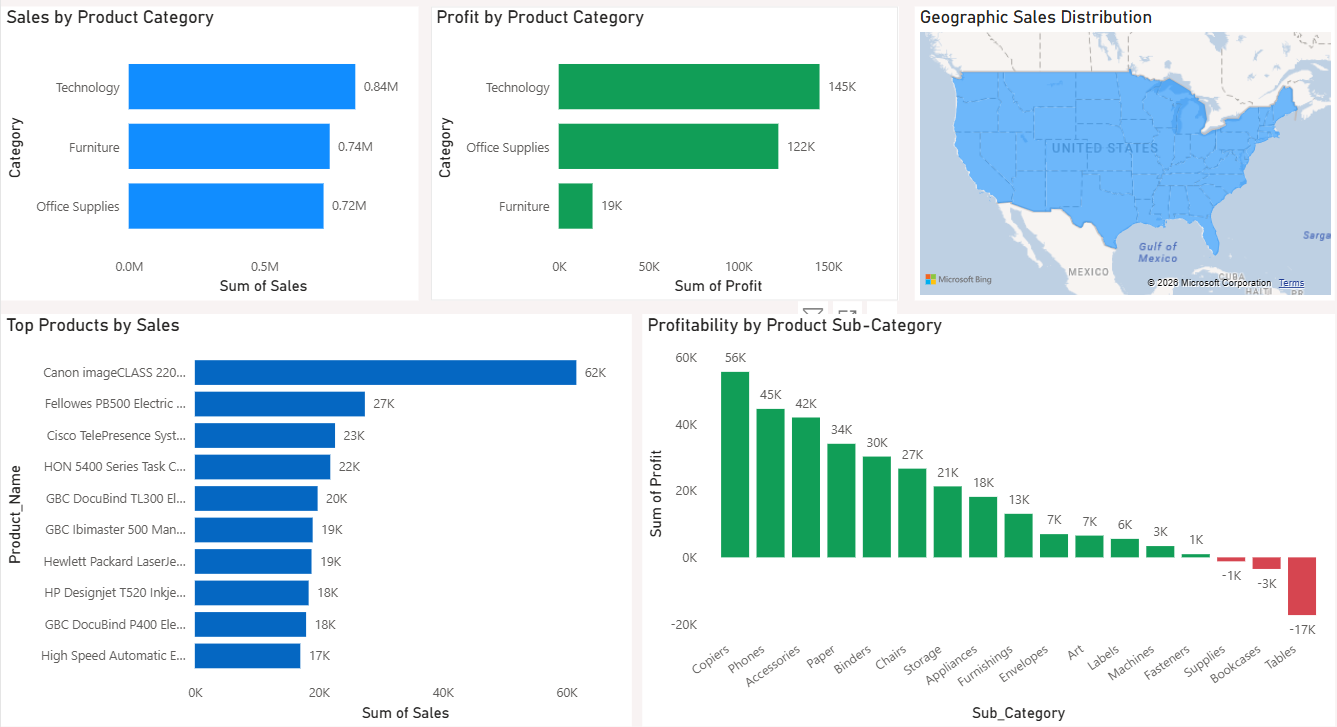

The page's visual inventory and layout, read from the dashboard file:
{"tool":"powerbi","page":{"name":"Product and Regional Performance Analysis","canvas":[1280,720],"ordinal":1},"visuals":[{"type":"clusteredBarChart","title":"Sales by Product Category","fields":{"Category":["Retail Sales Analysis.Category"],"Y":["Sum(Retail Sales Analysis.Sales)"]},"box":[0,16.9,380,279.9],"z":0},{"type":"clusteredBarChart","title":"Profit by Product Category","fields":{"Category":["Retail Sales Analysis.Category"],"Y":["Sum(Retail Sales Analysis.Profit)"]},"box":[389.3,16.7,404.8,279.8],"z":1000},{"type":"clusteredBarChart","title":"Top Products by Sales","fields":{"Category":["Retail Sales Analysis.Product_Name"],"Y":["Sum(Retail Sales Analysis.Sales)"]},"box":[0,309.5,601.2,392.9],"z":2000},{"type":"clusteredColumnChart","title":"Profitability by Product Sub-Category","fields":{"Category":["Retail Sales Analysis.Sub_Category"],"Y":["Sum(Retail Sales Analysis.Profit)"]},"box":[610.7,309.5,660.7,392.9],"z":3000},{"type":"filledMap","title":"Geographic Sales Distribution","fields":{"Category":["Retail Sales Analysis.State"]},"box":[802.4,16.7,469.1,279.8],"z":4000}]}

Visuals, with their boxes on the page's 1280x720 design canvas (x1, y1, x2, y2). These are canvas units, not pixel positions in the 1337x727 screenshot, which may show the page scaled, cropped or inside an application window:
"Sales by Product Category" clusteredBarChart: bbox=(0, 17, 380, 297)
"Profit by Product Category" clusteredBarChart: bbox=(389, 17, 794, 296)
"Top Products by Sales" clusteredBarChart: bbox=(0, 310, 601, 702)
"Profitability by Product Sub-Category" clusteredColumnChart: bbox=(611, 310, 1271, 702)
"Geographic Sales Distribution" filledMap: bbox=(802, 17, 1272, 296)
